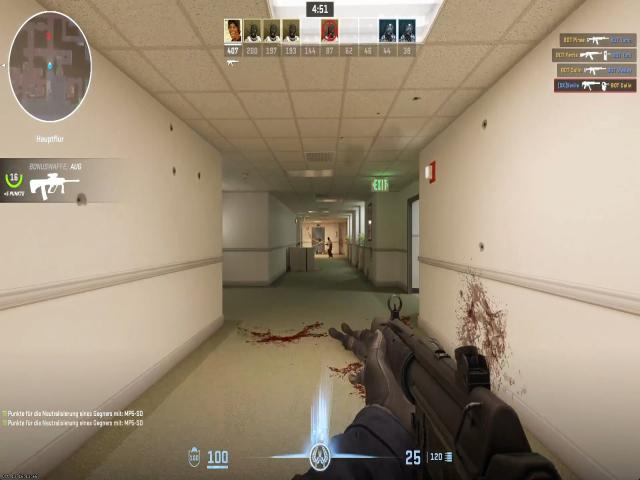T: (326, 236, 335, 256)
